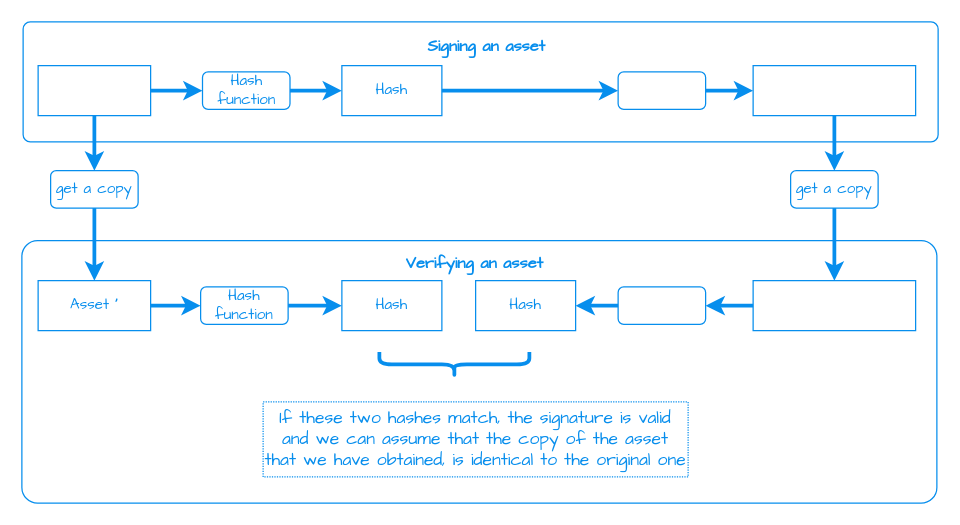
This 960x525 diagram has some shape labels left out. Here are the shapes that lost their labels. From the top down, the centre of each, then its label:
the point at 94,90: Asset
the point at 661,90: Encryption
the point at 834,90: Digital Signature
the point at 661,305: Decryption
the point at 834,305: Digital Signature '
